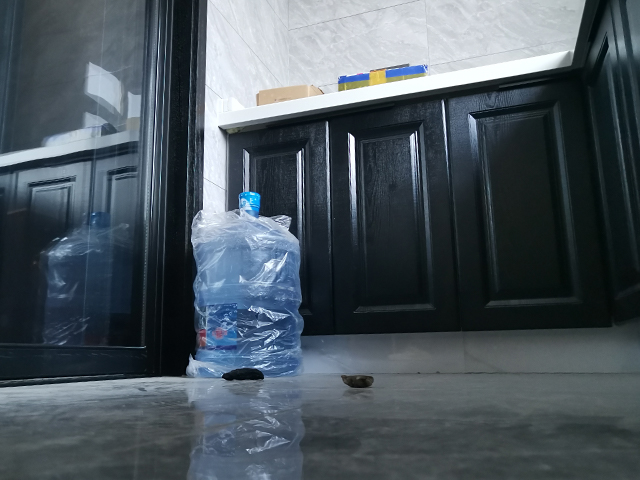cabinet: (307, 61, 603, 376)
feces: (221, 366, 265, 382), (339, 372, 375, 390)
